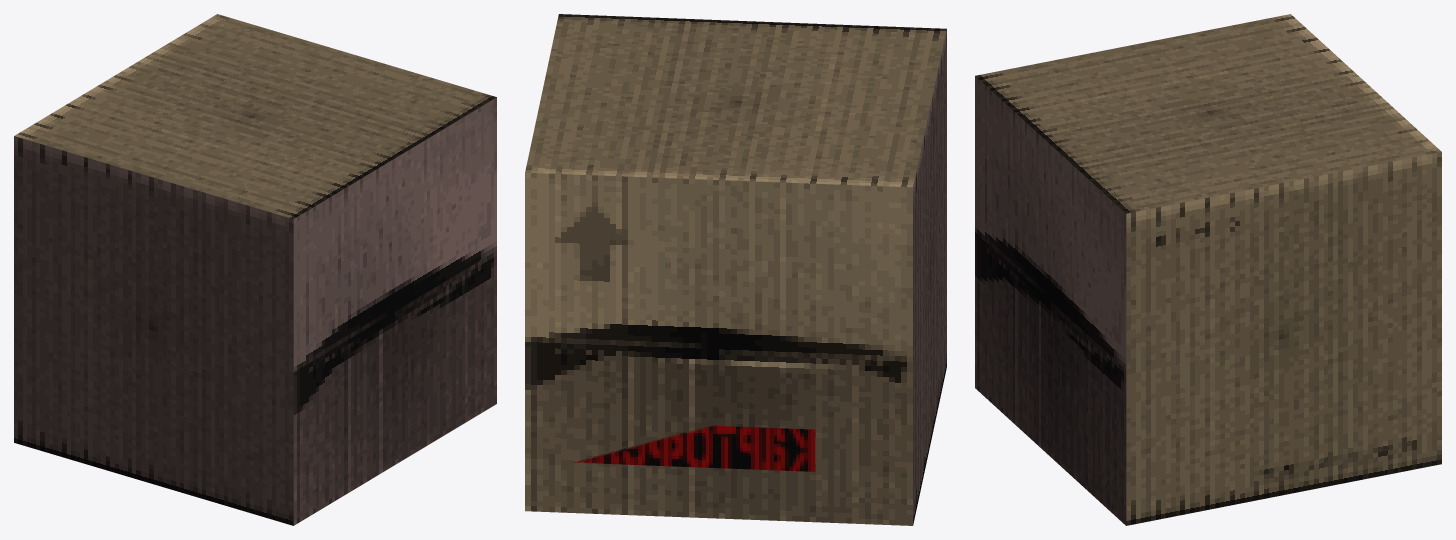
Rendered from primary_080.glb.
The picture shows the model from 3 angles, left to right: view 1: azimuth 30°, elevation 25°; view 2: azimuth 150°, elevation 25°; view 3: azimuth 270°, elevation 25°; orthographic projection. The views are drawn at different scales.
Visible parts, largest first — view 1: Object; view 2: Object; view 3: Object.
Boxes of the visible parts, box(x1,y1,x2,y2) form: Object: box(14, 14, 496, 525); Object: box(525, 14, 946, 525); Object: box(975, 14, 1441, 525).
Size of the model in its own units: 1.47 by 1.07 by 1.45.
Materials: 7 (7 with a texture image).
